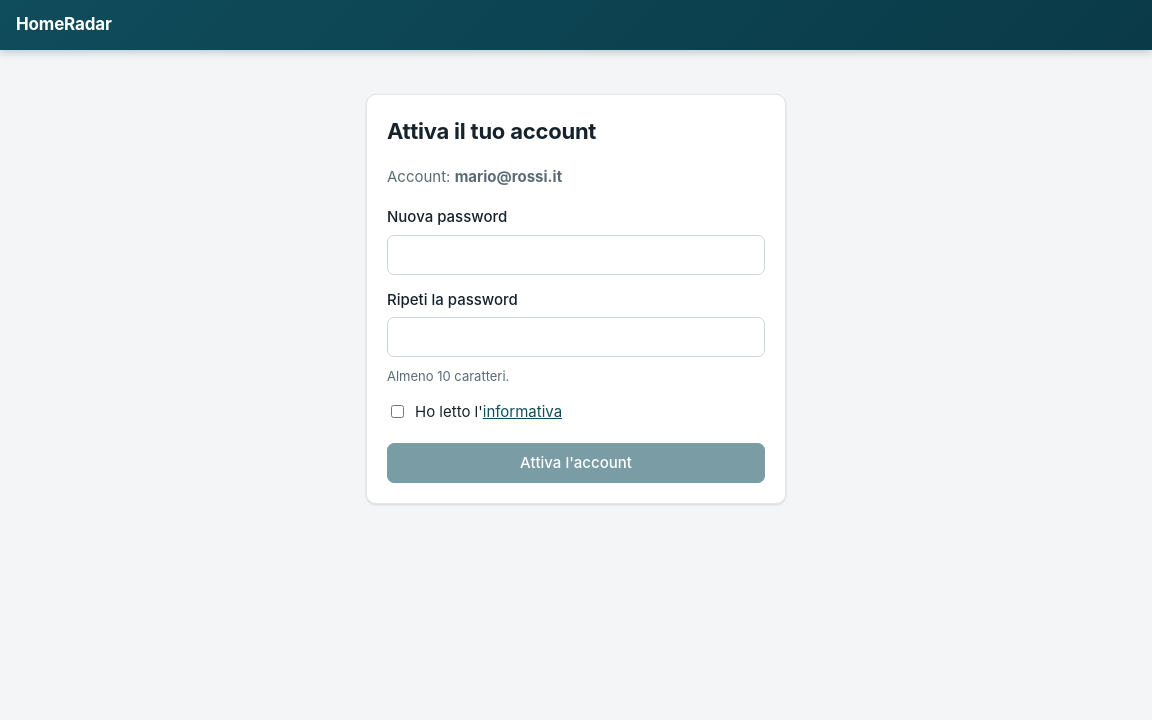
Test: attivazione › password diverse
Expected: the text "mario@rossi.it" is shown, [455, 166, 562, 186]
Type "password-lunga" into the password field labelled "Nuova password".
click(576, 254); type("password-lunga")  # box [387, 234, 765, 274]
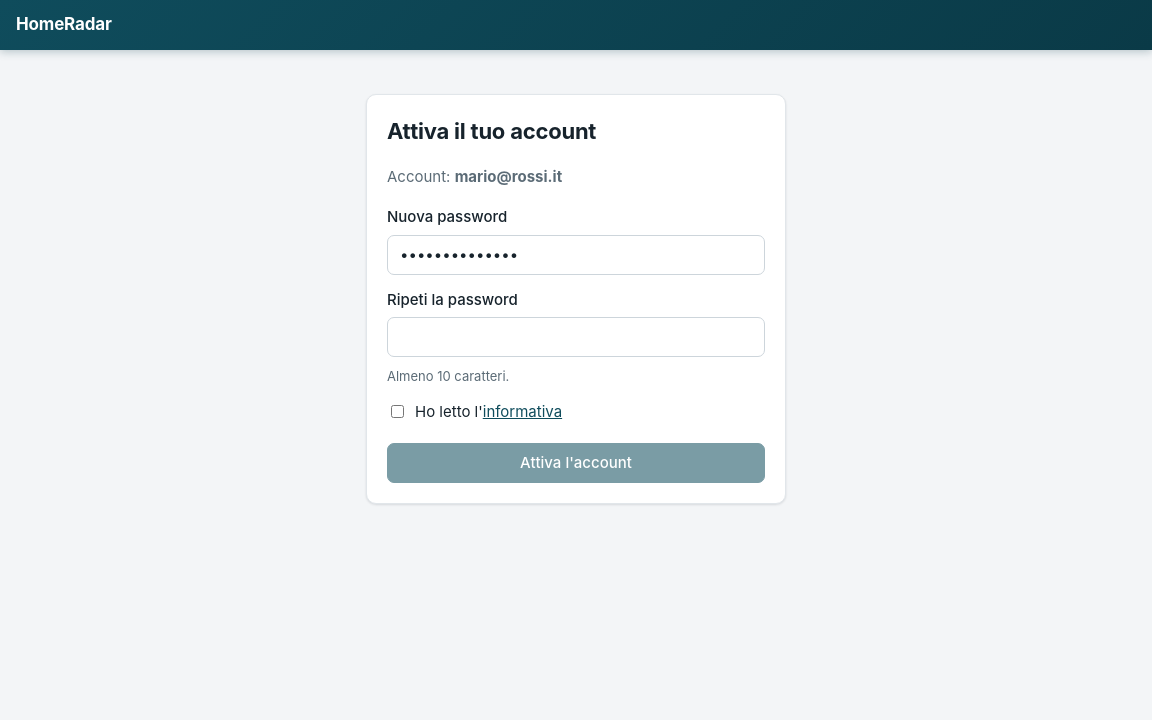
Type "password-diversa" into the password field labelled "Ripeti la password".
click(576, 337); type("password-diversa")  # box [387, 317, 765, 357]
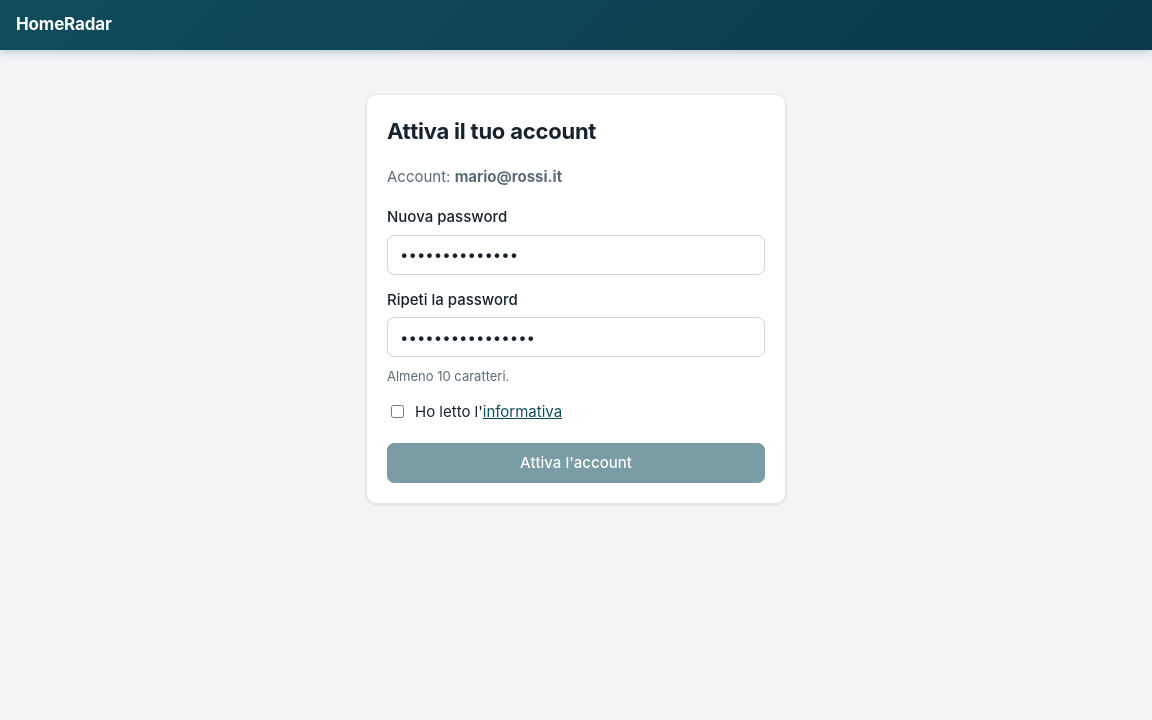
Click the checkbox named "Ho letto l'informativa".
click(398, 411)  # box [391, 404, 404, 418]
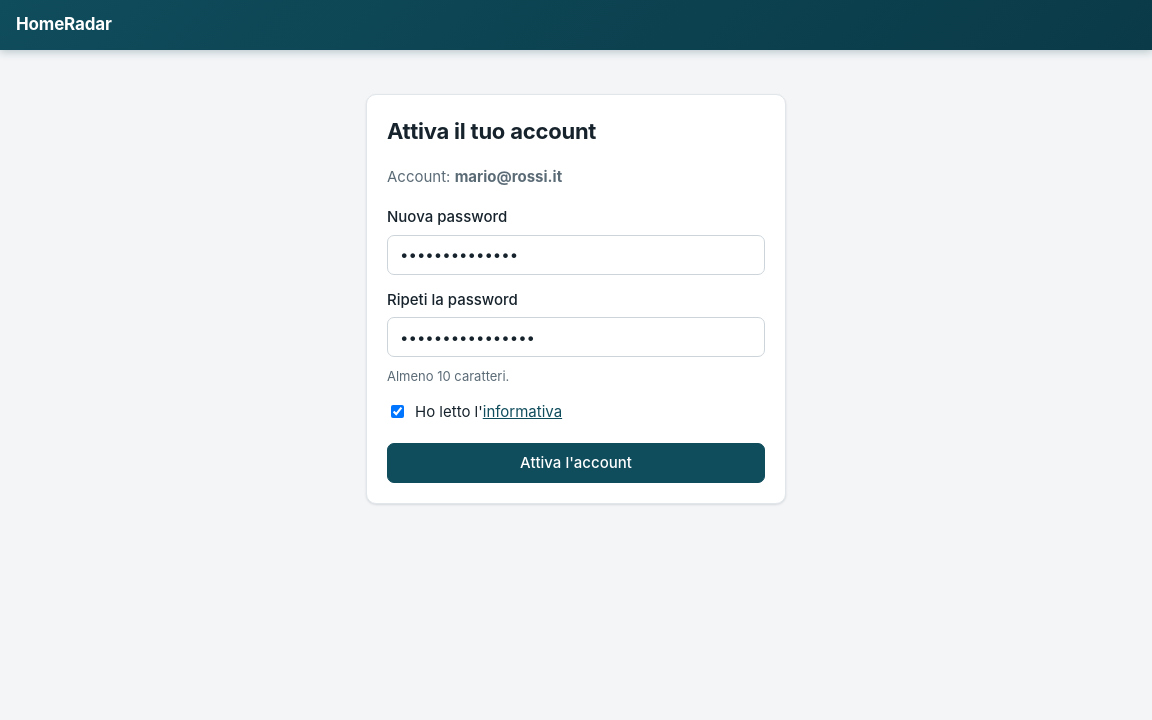
Click the button "Attiva l'account".
click(576, 463)  # box [387, 443, 765, 483]
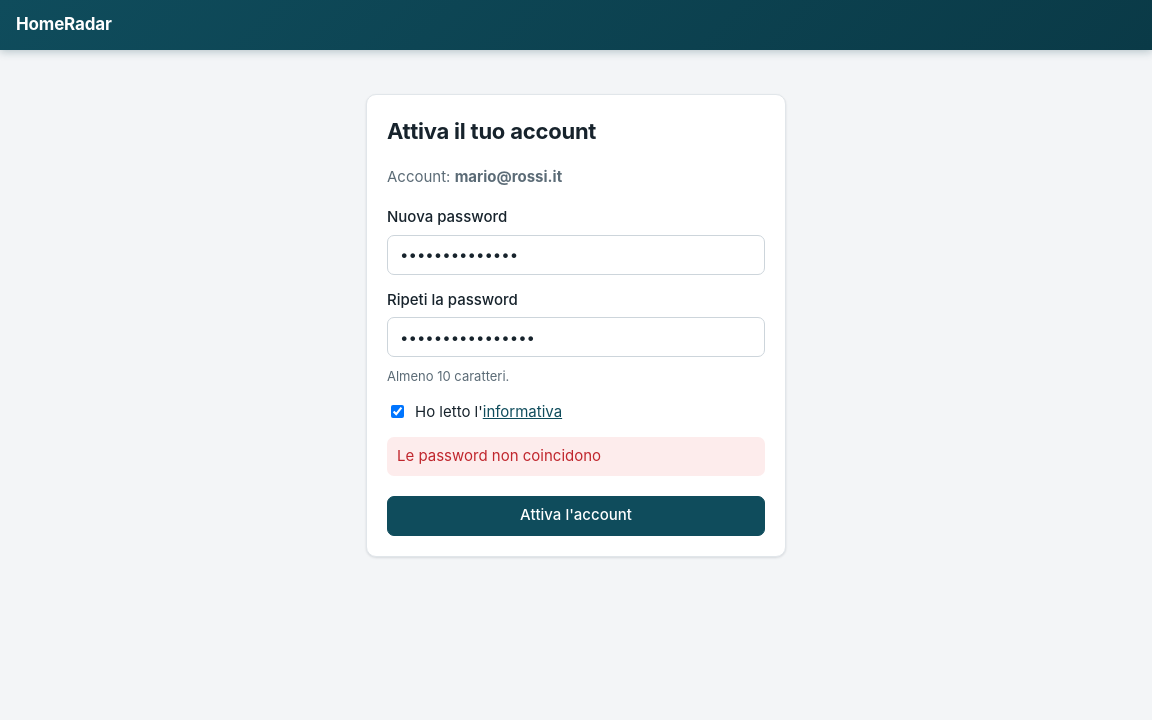
Expected: the text "Le password non coincidono" is shown, [387, 437, 765, 476]
